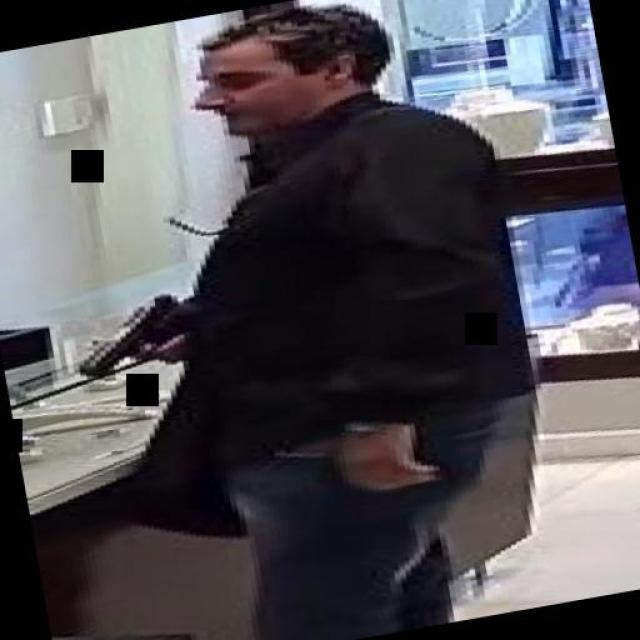gun: (63, 286, 205, 382)
